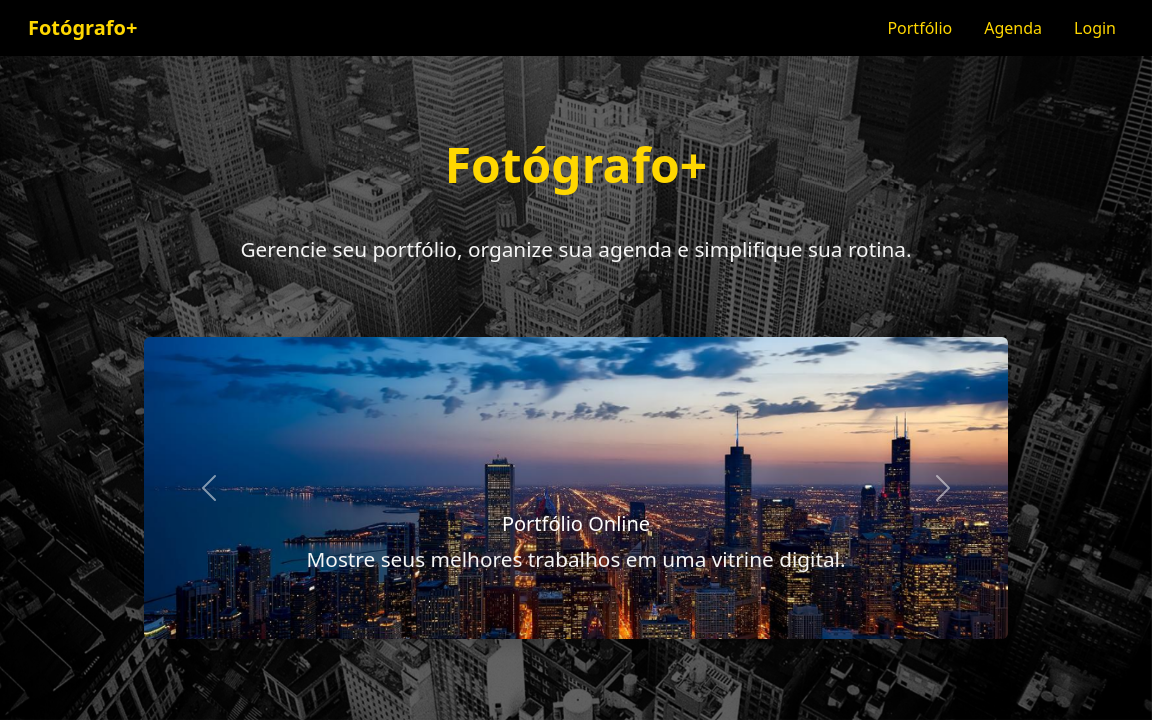
Scenario: Navegação deslogado › bloqueia acesso a /portfolio e exibe aviso de login obrigatório
Click the link to "/portfolio" at (920, 28), box [887,17,952,39]
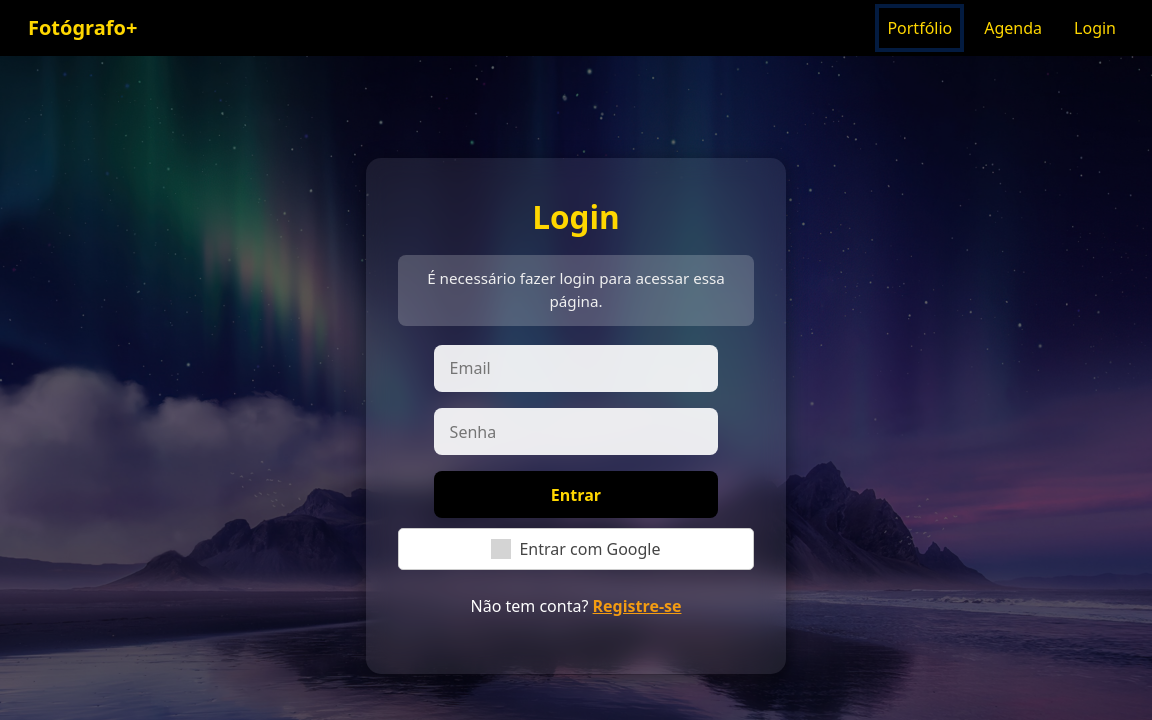
Result: the text "É necessário fazer login para acessar essa página." is shown at [398,255,754,326]
